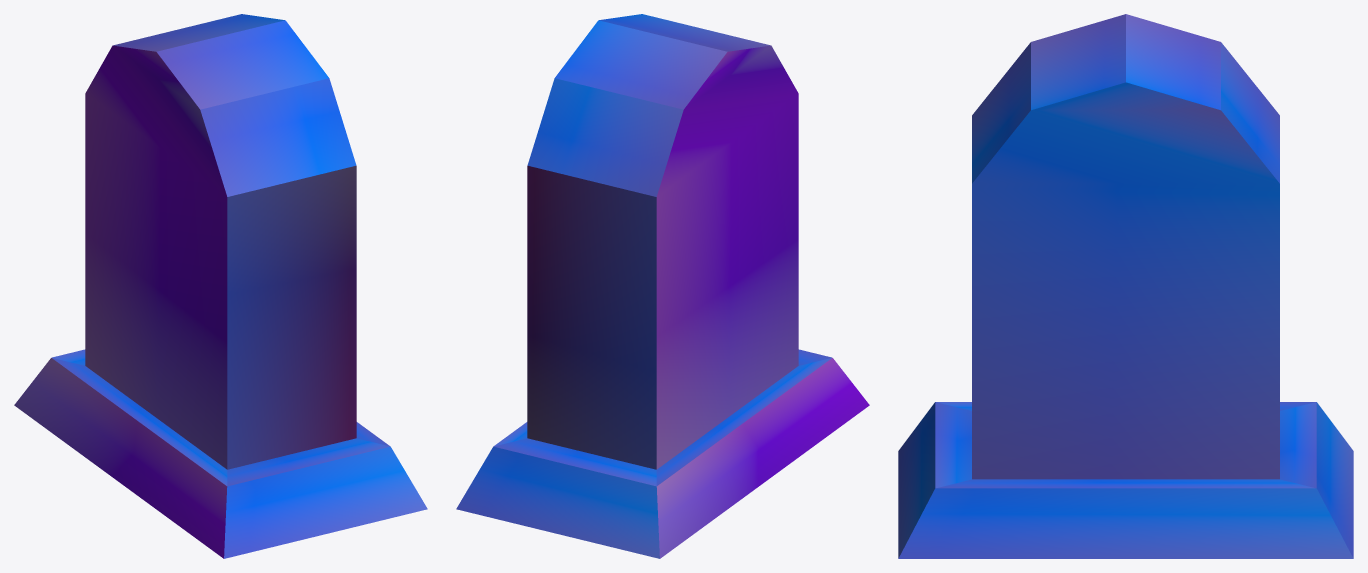
Rendered from tombStone05.fbx.
The picture shows the model from 3 angles, left to right: view 1: azimuth 30°, elevation 25°; view 2: azimuth 150°, elevation 25°; view 3: azimuth 270°, elevation 25°; orthographic projection. The views are drawn at different scales.
Parts seen in each view (by area): view 1: tombStone05; view 2: tombStone05; view 3: tombStone05.
Boxes of the visible parts, x1,y1,x2,y2 form: tombStone05: (14, 14, 427, 558); tombStone05: (456, 14, 869, 558); tombStone05: (898, 14, 1353, 558).
Size of the model in its own units: 78.9 by 156 by 141.
